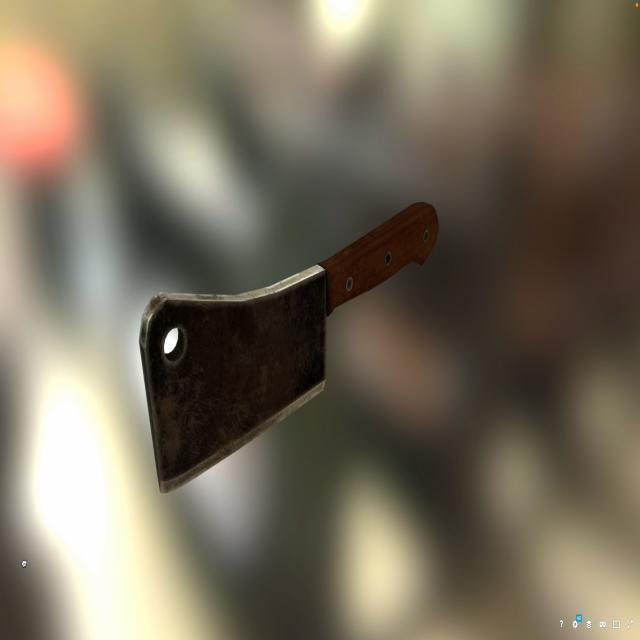cleaver: (130, 198, 430, 472)
